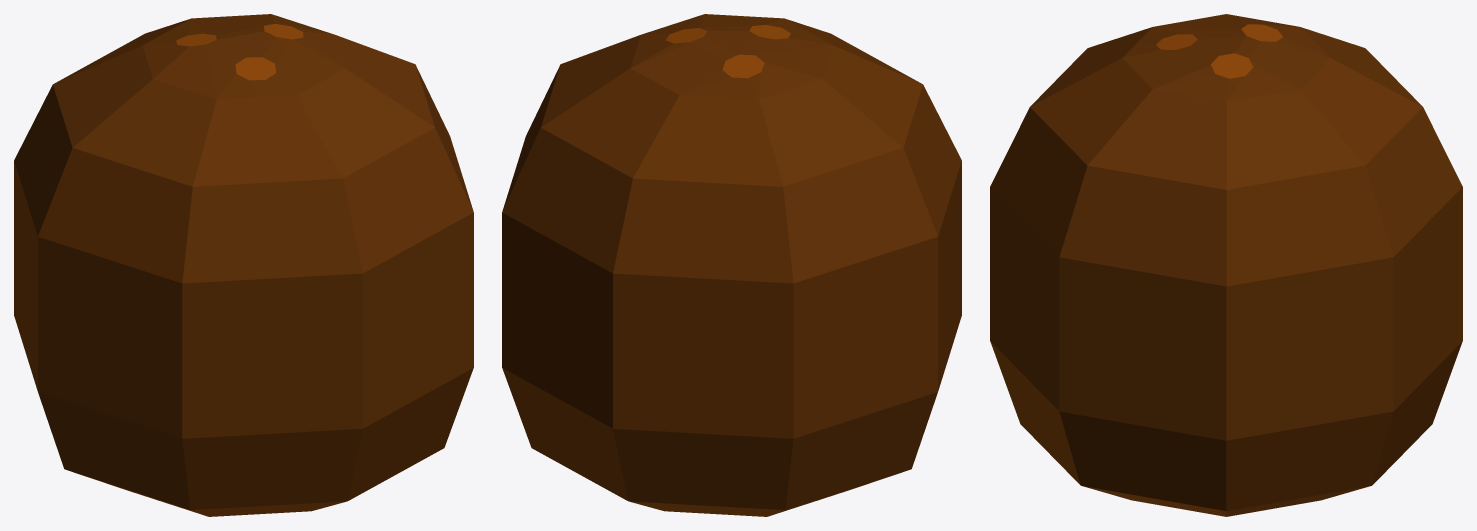
The model's file is coconut01.gltf.
3 views of the same model, side by side, from view 1: azimuth 30°, elevation 25°; view 2: azimuth 150°, elevation 25°; view 3: azimuth 270°, elevation 25° (orthographic).
Visible parts, largest first — view 1: Cylinder; view 2: Cylinder; view 3: Cylinder.
Boxes of the visible parts, x1,y1,x2,y2 form: Cylinder: [14, 14, 473, 516]; Cylinder: [502, 14, 961, 516]; Cylinder: [990, 14, 1462, 516].
Bounding box in the file's own units: 0.1384 × 0.1353 × 0.1384.
1 material, 1 textured.
